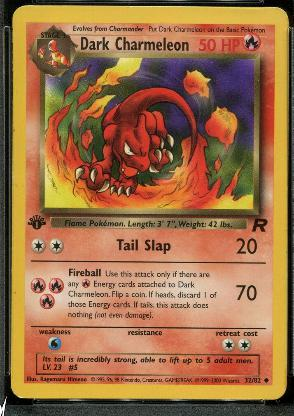Card: (8, 4, 288, 402)
Corner Wear: (16, 394, 25, 400)
